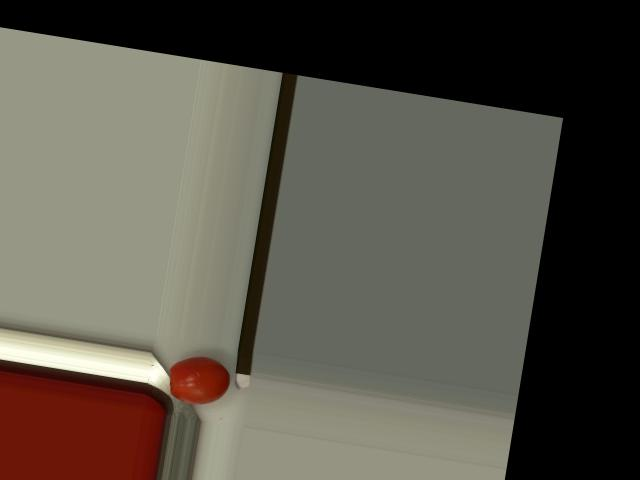tomato: (164, 351, 232, 409)
